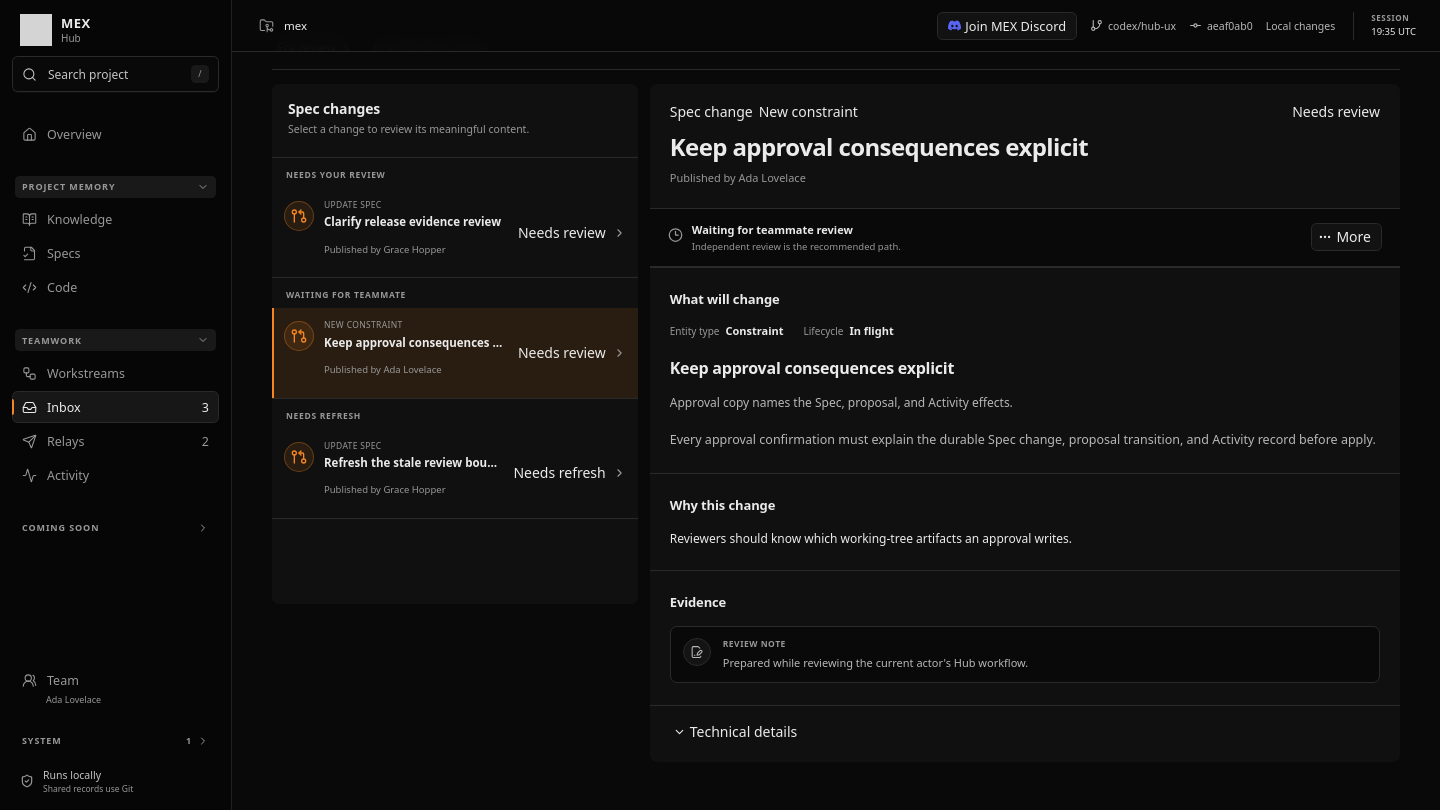
Scenario: Inbox Spec-authoring workbench › presents a create as readable Spec content with technical metadata collapsed
(page scrolled)
Check: the text "Published by Ada Lovelace" is shown, box left=670, top=170, right=806, bottom=185
Check: the heading "What will change" is shown, box left=670, top=290, right=780, bottom=308
What coordinates should you click on to do the following:
click the button "Technical details"
I would click on:
 (737, 732)
Its box is left=666, top=718, right=808, bottom=746.
(page scrolled)
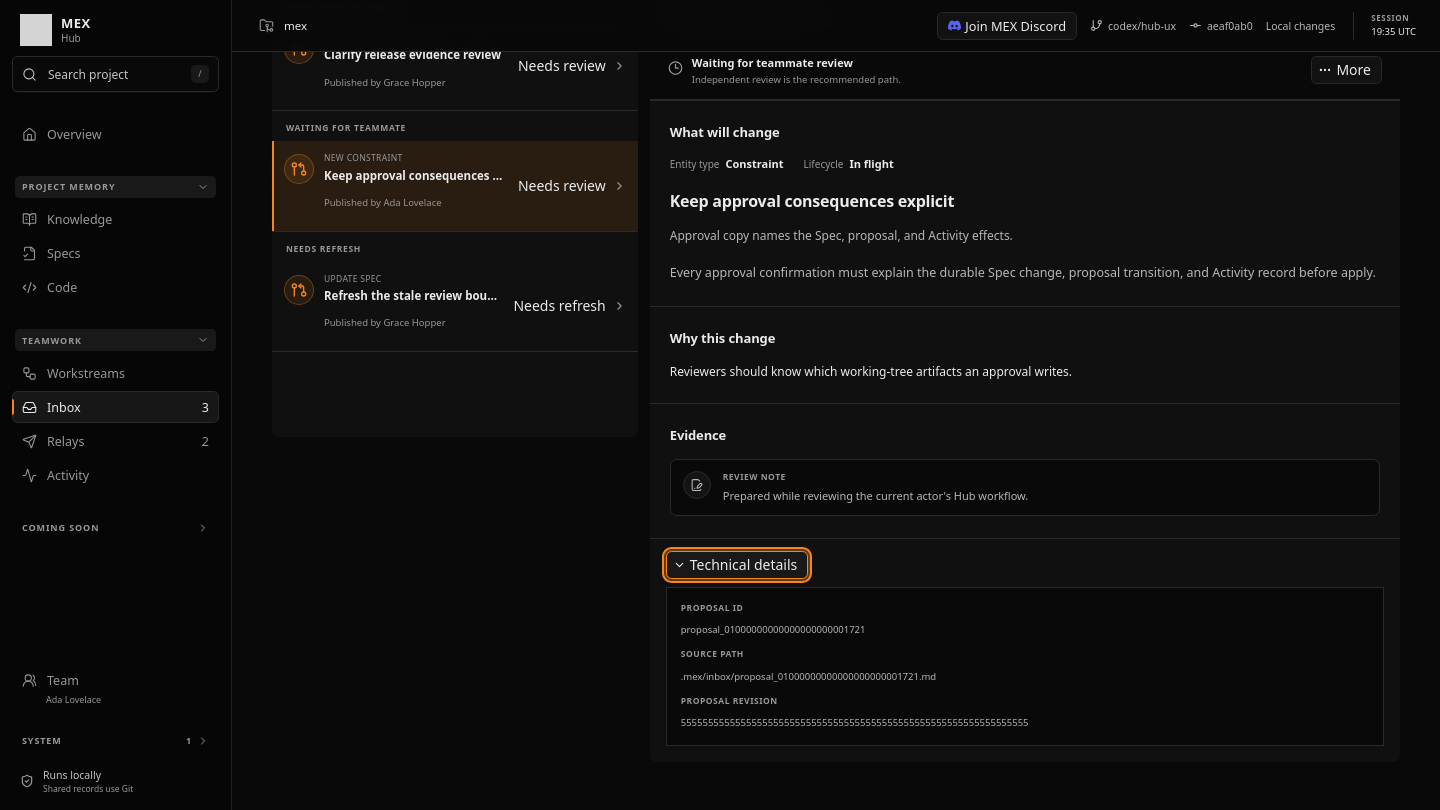
Check: the button "Technical details" is expanded, box left=666, top=551, right=808, bottom=579
Check: the text "proposal_01000000000000000000001721" is shown, box left=681, top=623, right=866, bottom=636
